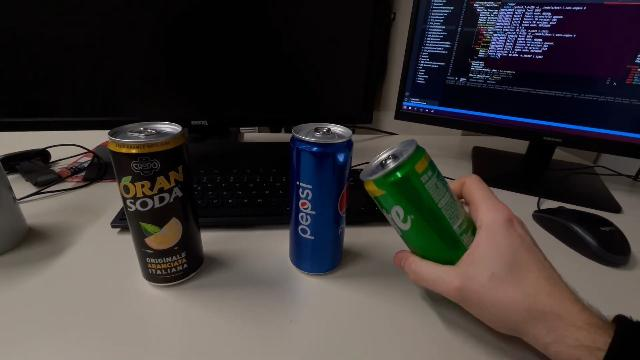OranSoda: (106, 120, 206, 288)
Pepsi: (286, 119, 354, 277)
Sprite: (359, 136, 479, 268)
